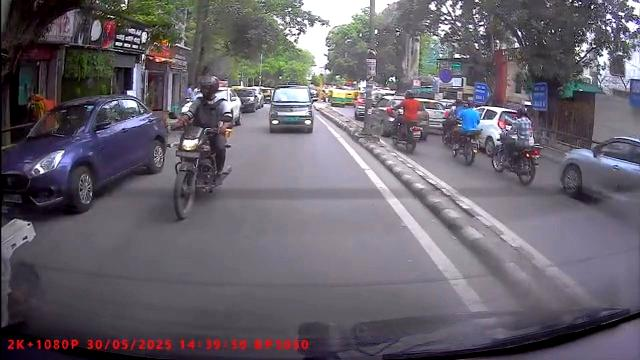motorcycle_with_helmet: (170, 73, 235, 220), (492, 103, 542, 186), (390, 88, 426, 154), (452, 102, 479, 166)
